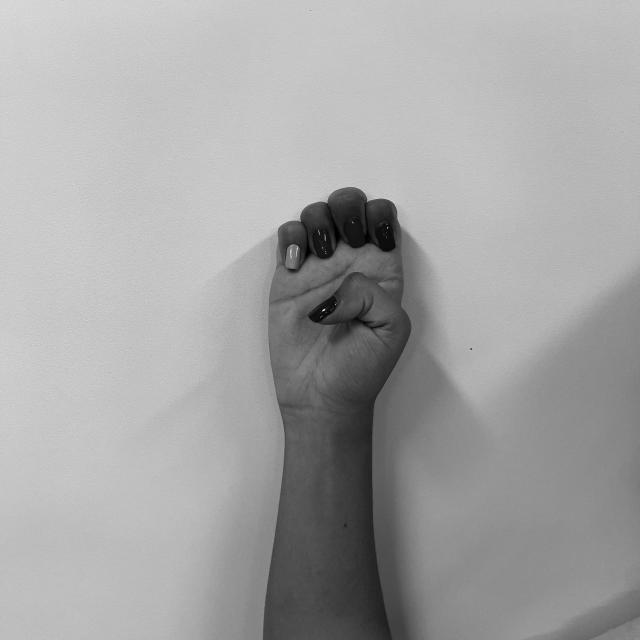Letra E: (261, 180, 416, 418)
